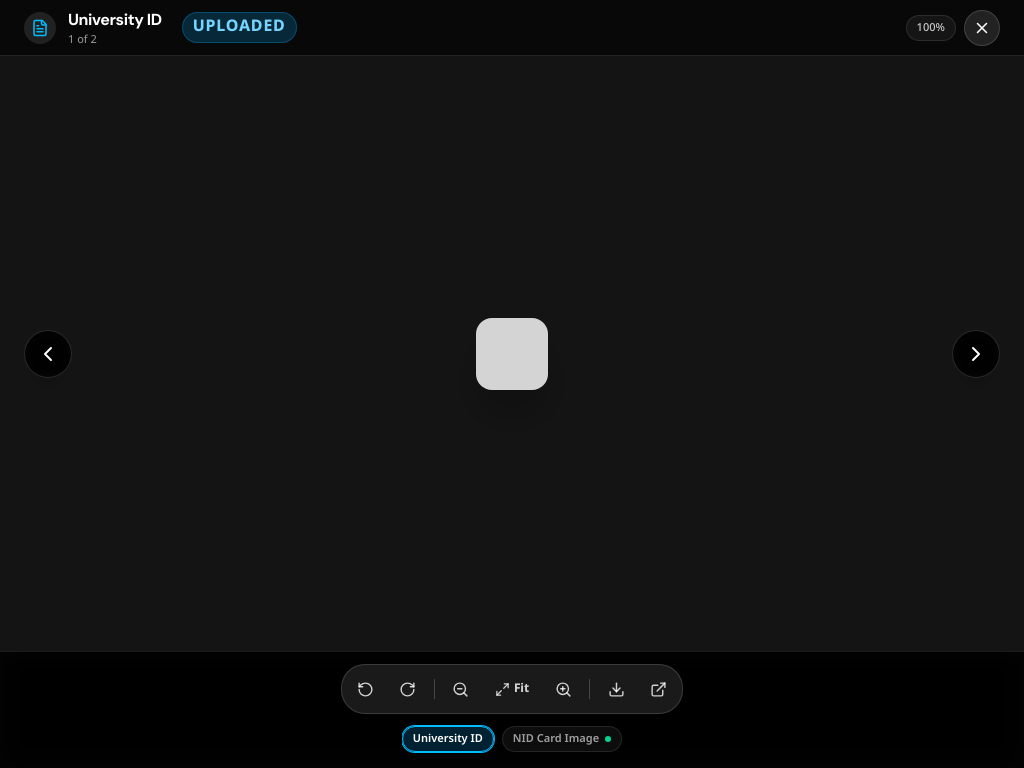
Test case: DocumentLightboxModal › supports rotating the document 90 degrees clockwise and counter-clockwise
Note: Initial rotation: 0deg
Step 1. Click the button named "Rotate 90 degrees clockwise" → [408, 689], box [390, 671, 426, 707]
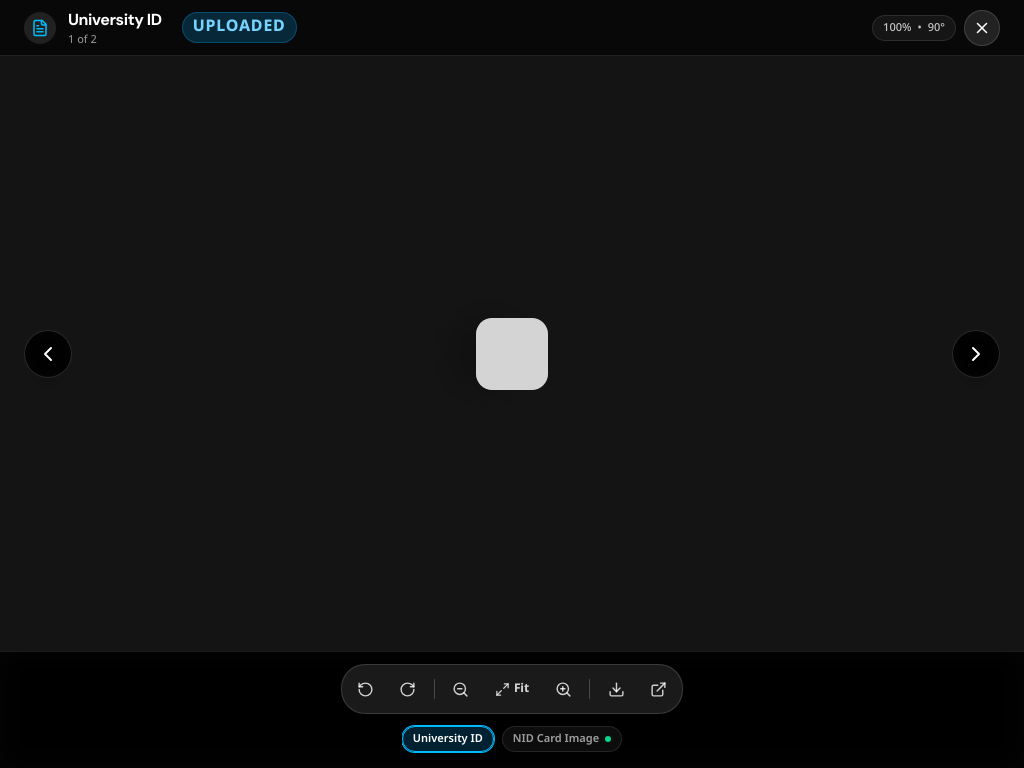
Now the text "90°" is shown, box [928, 20, 945, 36]
Step 2. Click the button named "Rotate 90 degrees clockwise" → [408, 689], box [390, 671, 426, 707]
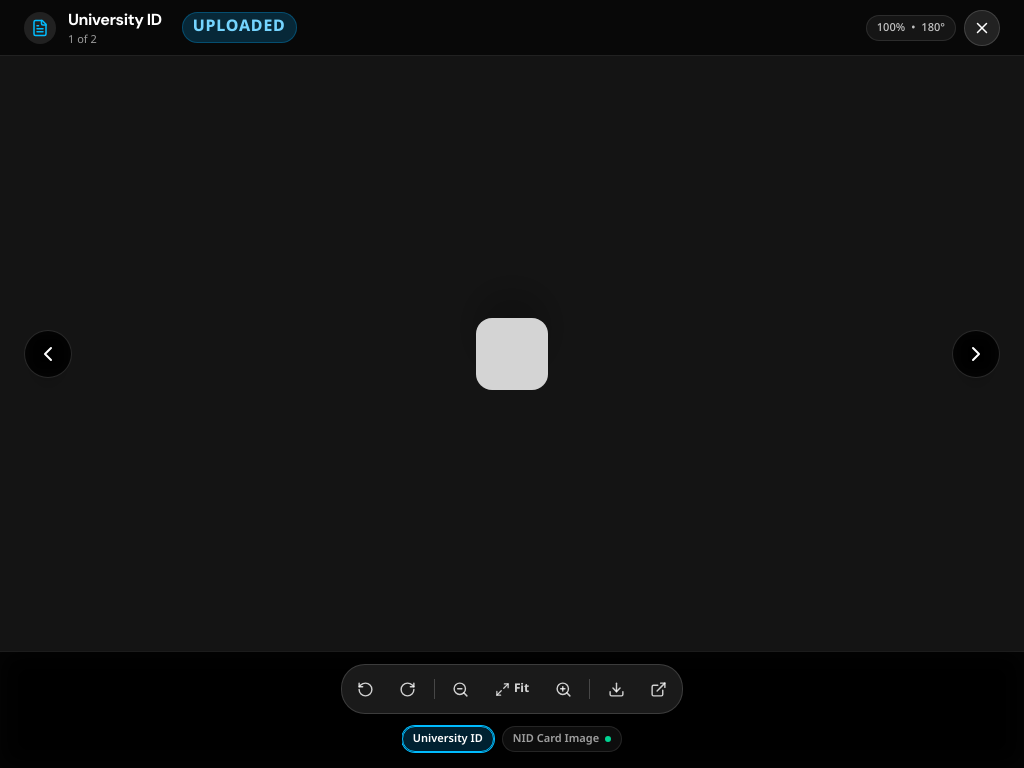
Now the text "180°" is shown, box [921, 20, 945, 36]
Step 3. Click the button named "Rotate 90 degrees counter-clockwise" → [366, 689], box [348, 671, 384, 707]
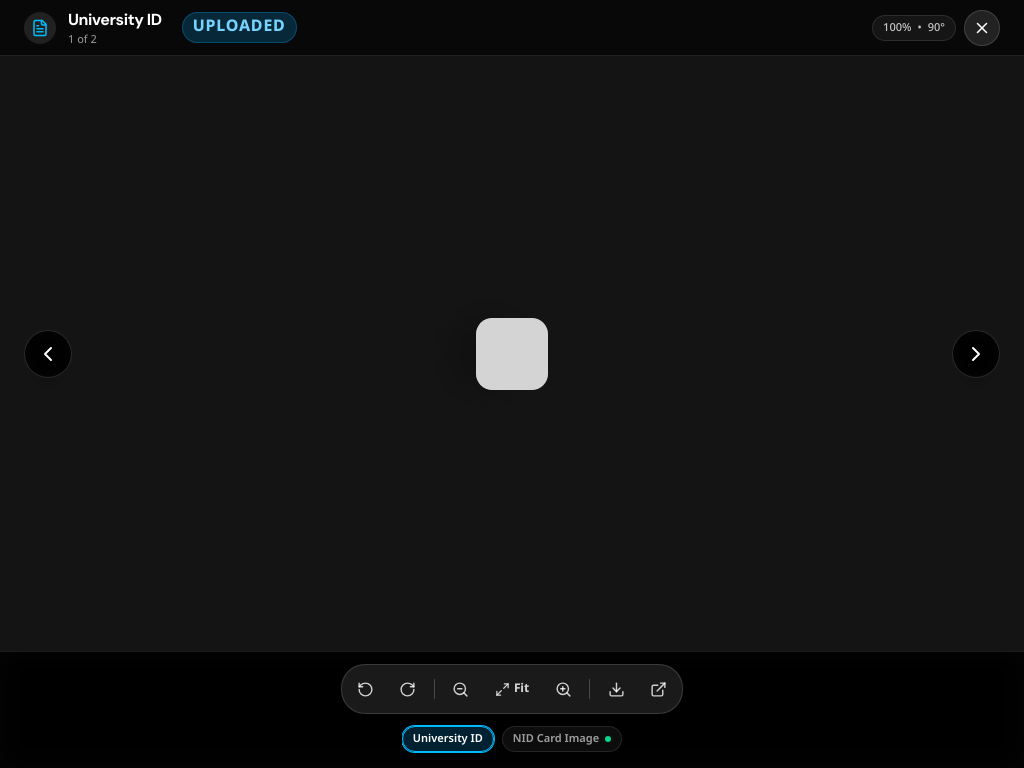
Now the text "90°" is shown, box [928, 20, 945, 36]
